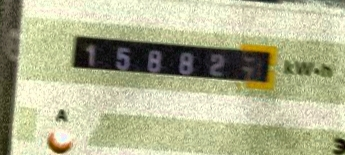1: (83, 41, 100, 67)
2: (209, 50, 227, 77)
5: (114, 44, 133, 70)
7: (240, 62, 255, 80)
8: (177, 48, 196, 74), (145, 47, 164, 72)
screen: (58, 19, 289, 99)
